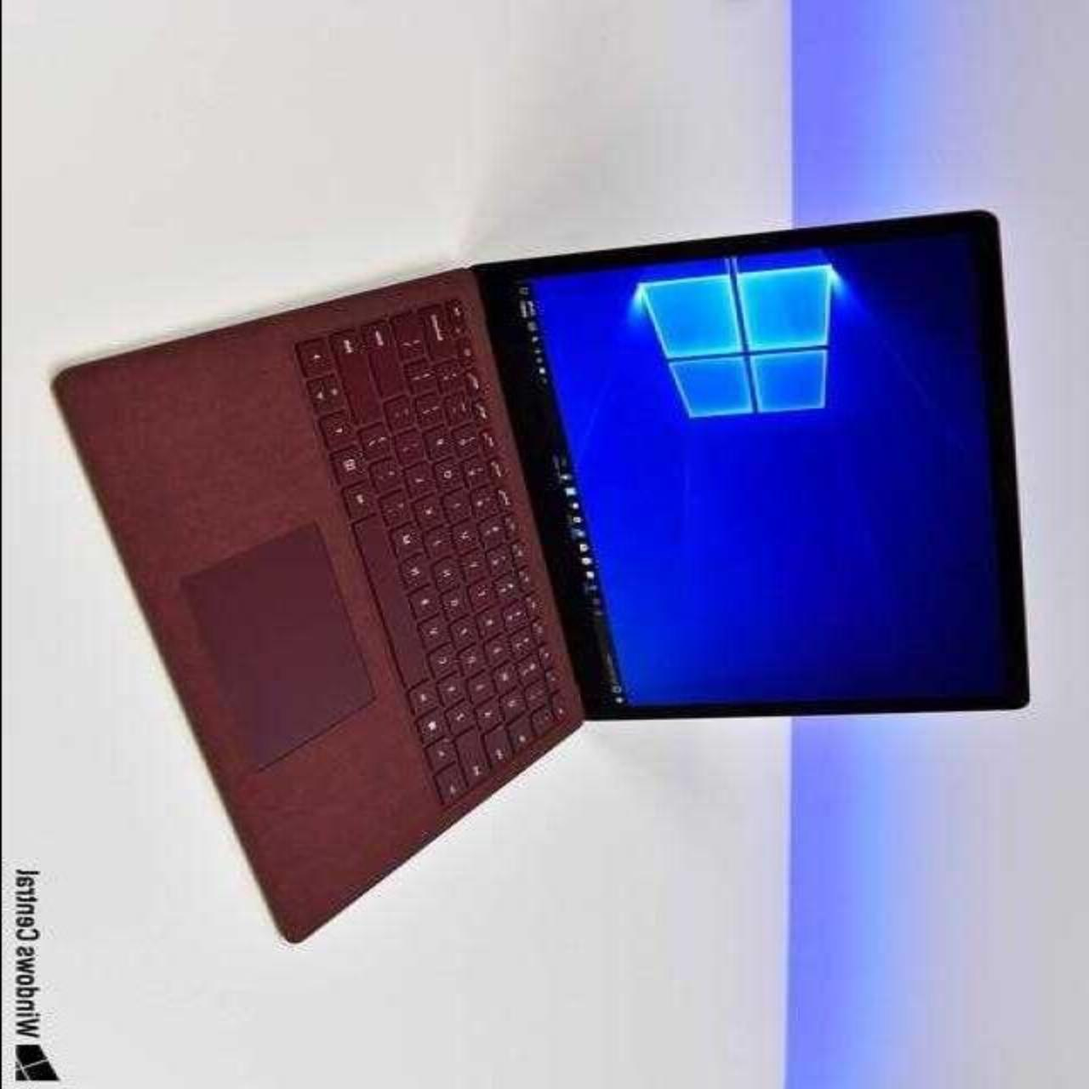laptop: (112, 225, 1031, 843)
